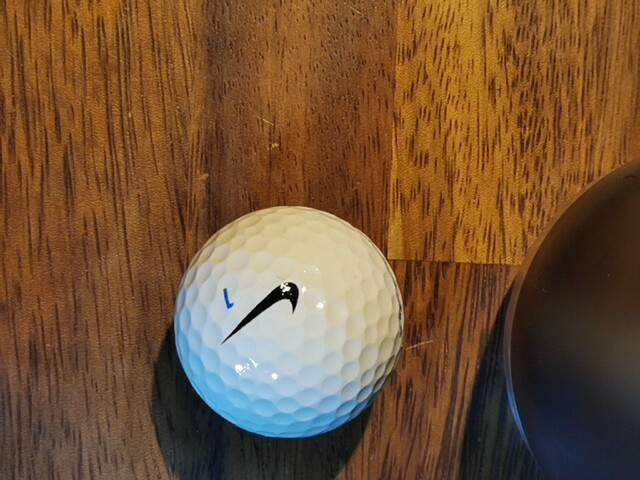Ball: (172, 205, 406, 440)
Nike: (220, 281, 299, 346)
